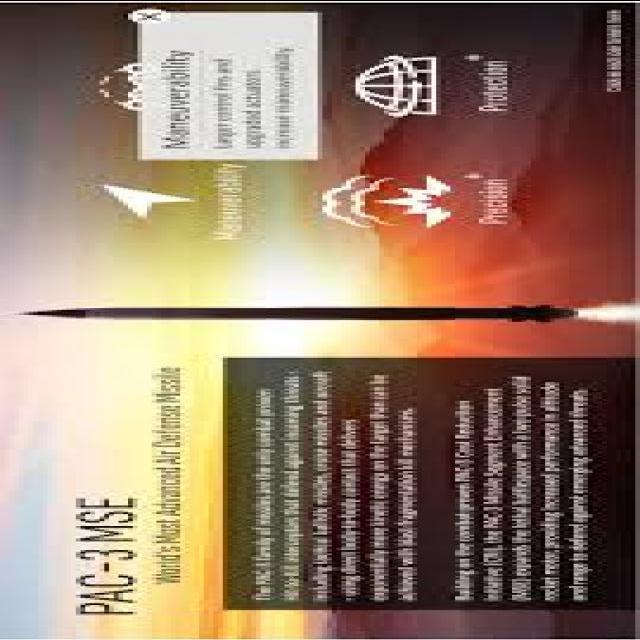Missile: (10, 301, 560, 321)
